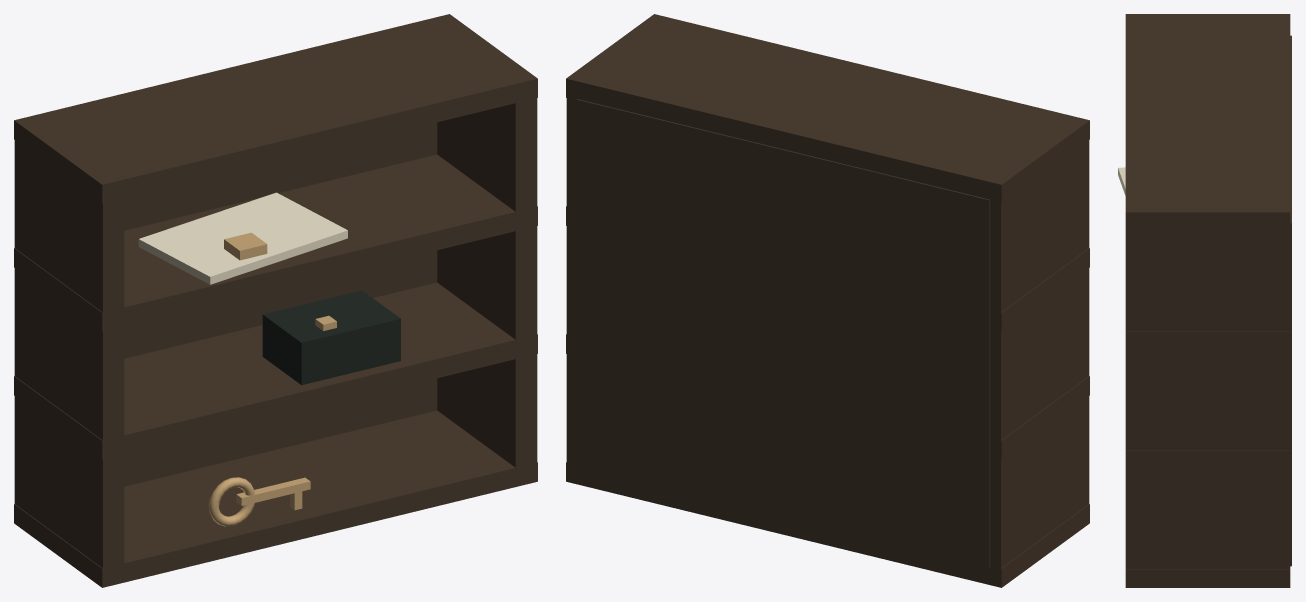
Rendered from study-cabinet.glb.
The picture shows the model from 3 angles, left to right: view 1: azimuth 30°, elevation 25°; view 2: azimuth 150°, elevation 25°; view 3: azimuth 270°, elevation 25°; orthographic projection. The views are drawn at different scales.
Visible parts, largest first — view 1: shelf (×4), cabinet-left, cabinet-back, cabinet-right, document, recorder, key-ring, key-shaft, document-seal; view 2: cabinet-back, shelf (×4), cabinet-left, cabinet-right; view 3: cabinet-right, shelf (×4), cabinet-back.
Part boxes in pixels (x1=…): shelf (×4): x1=14, y1=14, x2=537, y2=587; cabinet-left: x1=14, y1=140, x2=124, y2=569; cabinet-back: x1=124, y1=122, x2=437, y2=486; cabinet-right: x1=437, y1=98, x2=537, y2=468; document: x1=138, y1=192, x2=347, y2=284; recorder: x1=262, y1=290, x2=400, y2=385; key-ring: x1=208, y1=477, x2=254, y2=526; key-shaft: x1=236, y1=477, x2=310, y2=505; document-seal: x1=224, y1=232, x2=267, y2=260; cabinet-back: x1=576, y1=99, x2=990, y2=567; shelf (×4): x1=566, y1=14, x2=1089, y2=587; cabinet-left: x1=990, y1=140, x2=1089, y2=568; cabinet-right: x1=566, y1=97, x2=576, y2=466; cabinet-right: x1=1125, y1=230, x2=1290, y2=569; shelf (×4): x1=1125, y1=14, x2=1290, y2=587; cabinet-back: x1=1290, y1=35, x2=1291, y2=566.
Bounding box in the file's own units: 0.285 × 0.252 × 0.1056.
